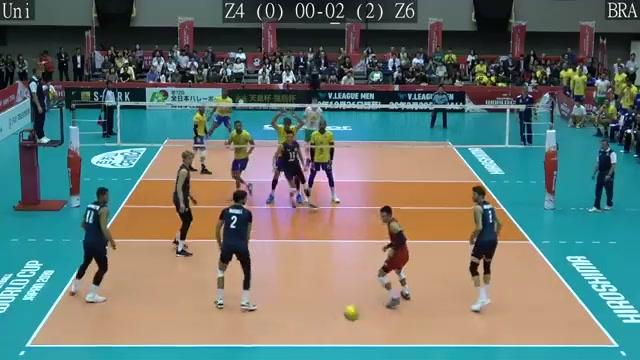ball: (340, 300, 358, 324)
